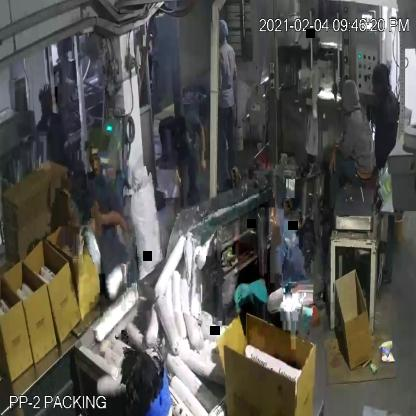glove: (223, 272, 273, 318)
no_glove: (88, 198, 127, 238)
